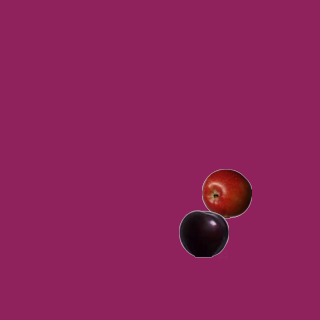Apple Braeburn: (201, 168, 251, 218)
Cherry Wax Black: (178, 208, 228, 258)
